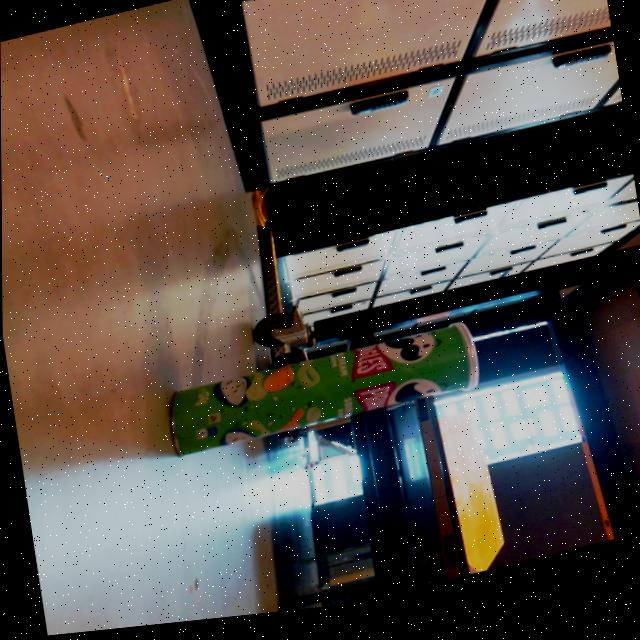greenpringles: (135, 304, 506, 491)
